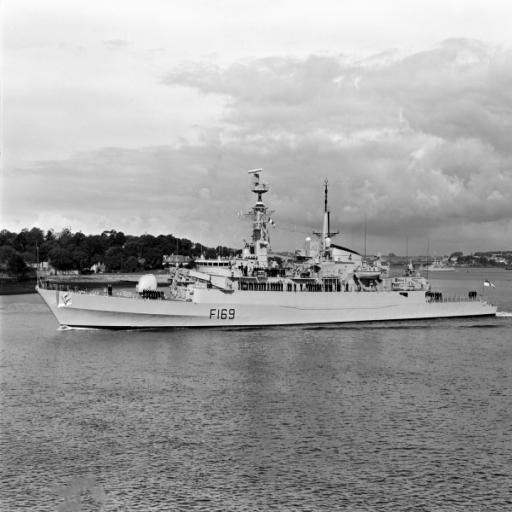Fragata: (31, 171, 500, 335)
